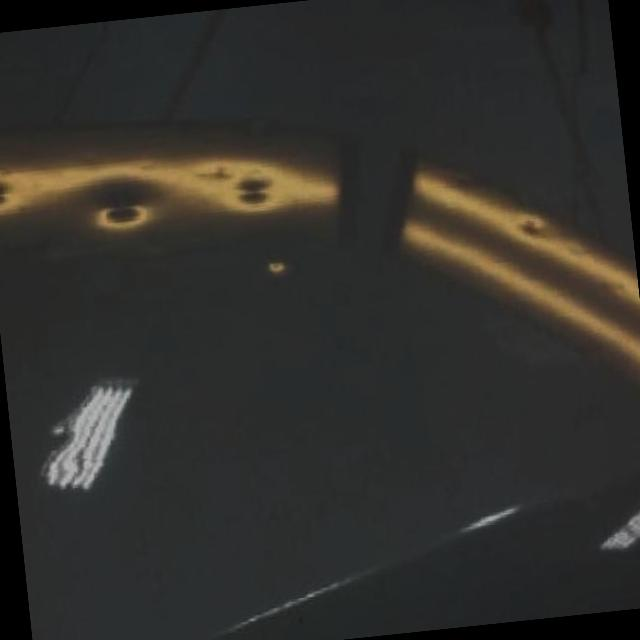dent: (99, 194, 147, 230), (233, 170, 272, 209), (520, 214, 541, 236), (0, 177, 14, 208), (263, 258, 284, 276)
